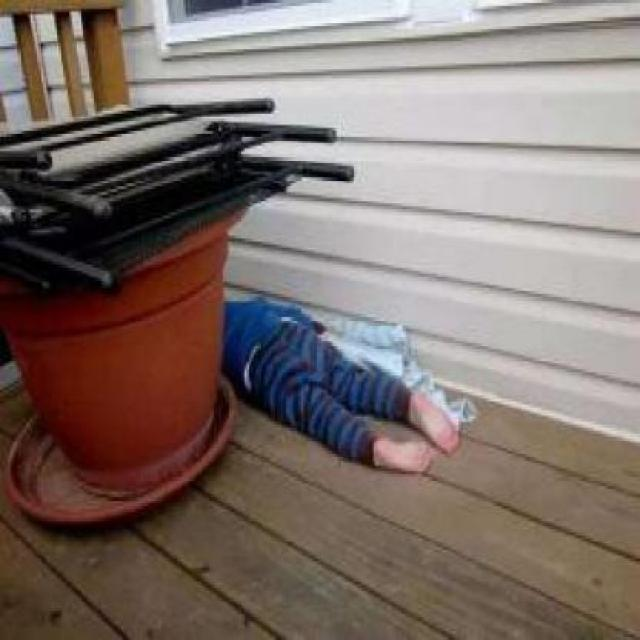fall: (209, 273, 474, 481)
